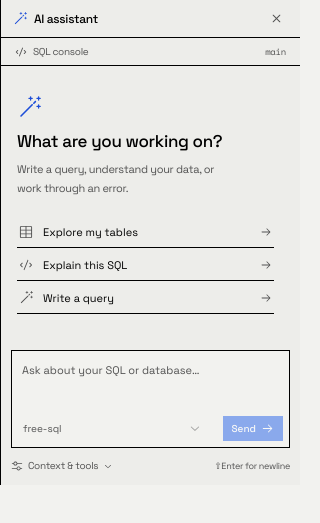
Test case: uses the selected model for requests without changing saved settings
Press ArrowDown in the dropdown named "Assistant model", box [18,415,207,441]
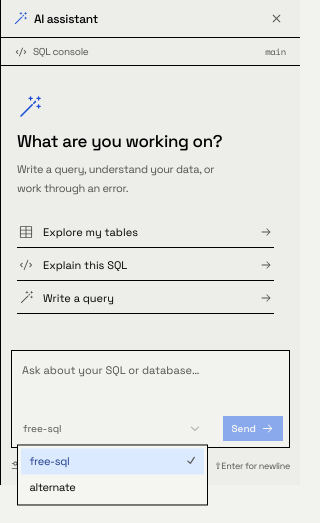
Press Enter in the option "alternate", box [30,481,75,495]
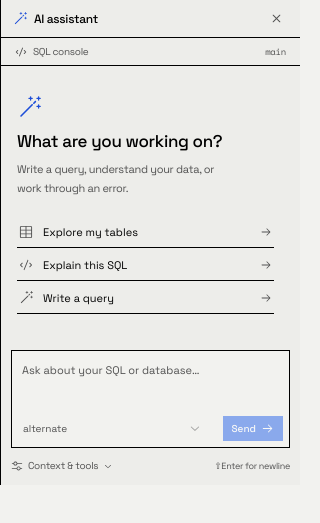
Type "Explain" into the text box named "Message AI assistant". click: {"x": 150, "y": 383}
box: [12,351,289,415]
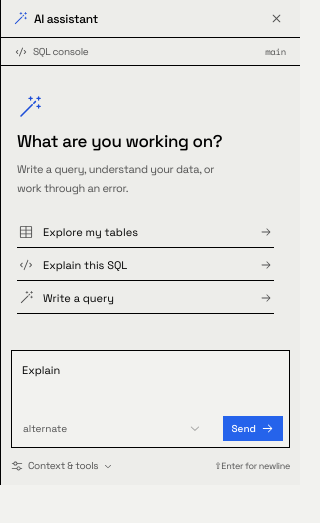
Click the button "Send". click: {"x": 253, "y": 428}
box: [222,416,283,441]
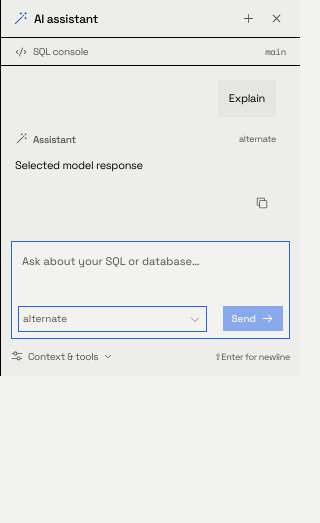
Result: the text "Selected model response" is shown at [15,158,143,172]
